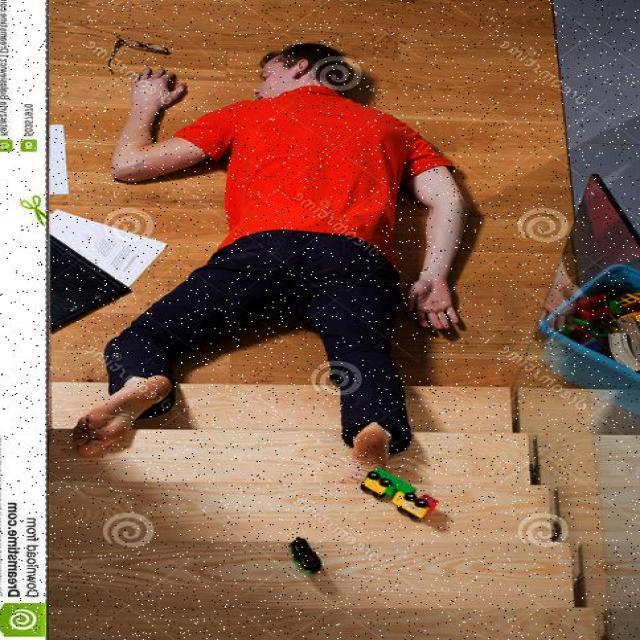fall: (78, 48, 455, 456)
